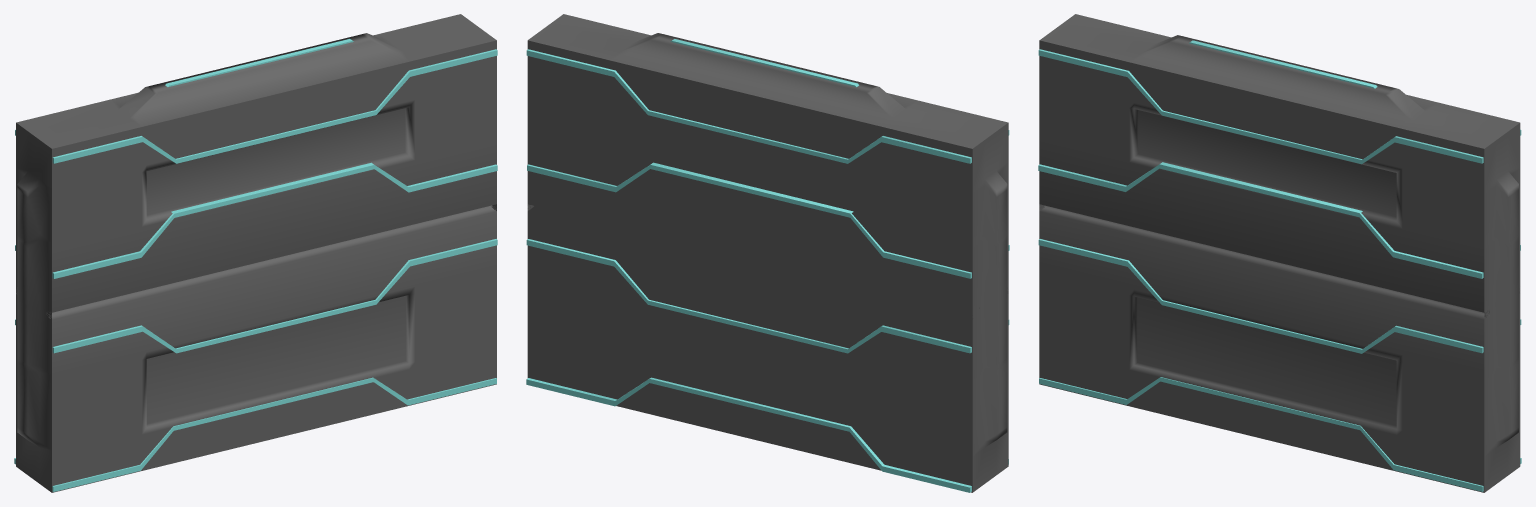
File: WALL (1).fbx
The picture shows the model from 3 angles, left to right: view 1: azimuth 30°, elevation 25°; view 2: azimuth 150°, elevation 25°; view 3: azimuth 330°, elevation 25°; orthographic projection.
Parts seen in each view (by area): view 1: pCube11, pCube13, pCube10, pCube9, pCube12, pCube8; view 2: pCube11, pCube16, pCube18, pCube19, pCube17, pCube8; view 3: pCube11, pCube13, pCube10, pCube9, pCube12, pCube8.
Boxes of the visible parts, bbox=[...] form: pCube11: bbox=[16, 14, 496, 492]; pCube13: bbox=[52, 162, 497, 278]; pCube10: bbox=[52, 239, 497, 353]; pCube9: bbox=[52, 49, 497, 163]; pCube12: bbox=[52, 377, 496, 491]; pCube8: bbox=[165, 39, 353, 86]; pCube11: bbox=[527, 14, 1008, 492]; pCube16: bbox=[527, 162, 971, 278]; pCube18: bbox=[526, 377, 971, 492]; pCube19: bbox=[526, 49, 971, 163]; pCube17: bbox=[526, 239, 971, 353]; pCube8: bbox=[670, 39, 858, 87]; pCube11: bbox=[1039, 14, 1520, 492]; pCube13: bbox=[1038, 162, 1483, 278]; pCube10: bbox=[1038, 239, 1483, 353]; pCube9: bbox=[1038, 49, 1483, 164]; pCube12: bbox=[1039, 377, 1483, 491]; pCube8: bbox=[1189, 40, 1377, 88].
Bounding box in the file's own units: 10.53 × 7.8 × 1.55.
